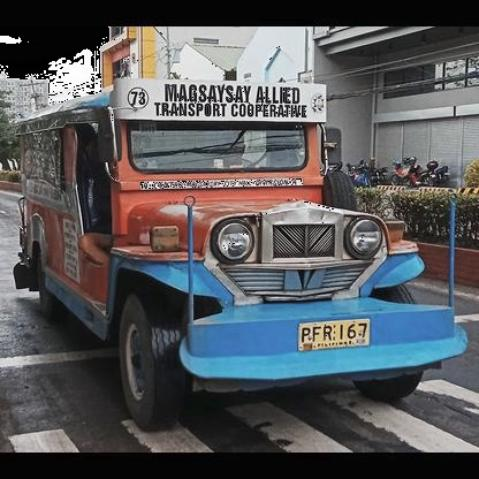jeepney: (8, 77, 471, 444)
